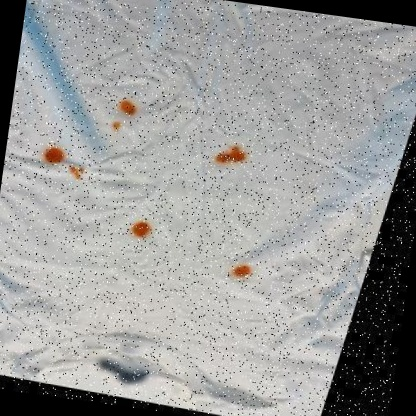kimchi: (214, 139, 251, 175), (44, 139, 70, 171), (129, 214, 156, 243), (116, 97, 140, 122), (69, 160, 89, 181), (235, 263, 254, 282), (109, 122, 123, 133)
